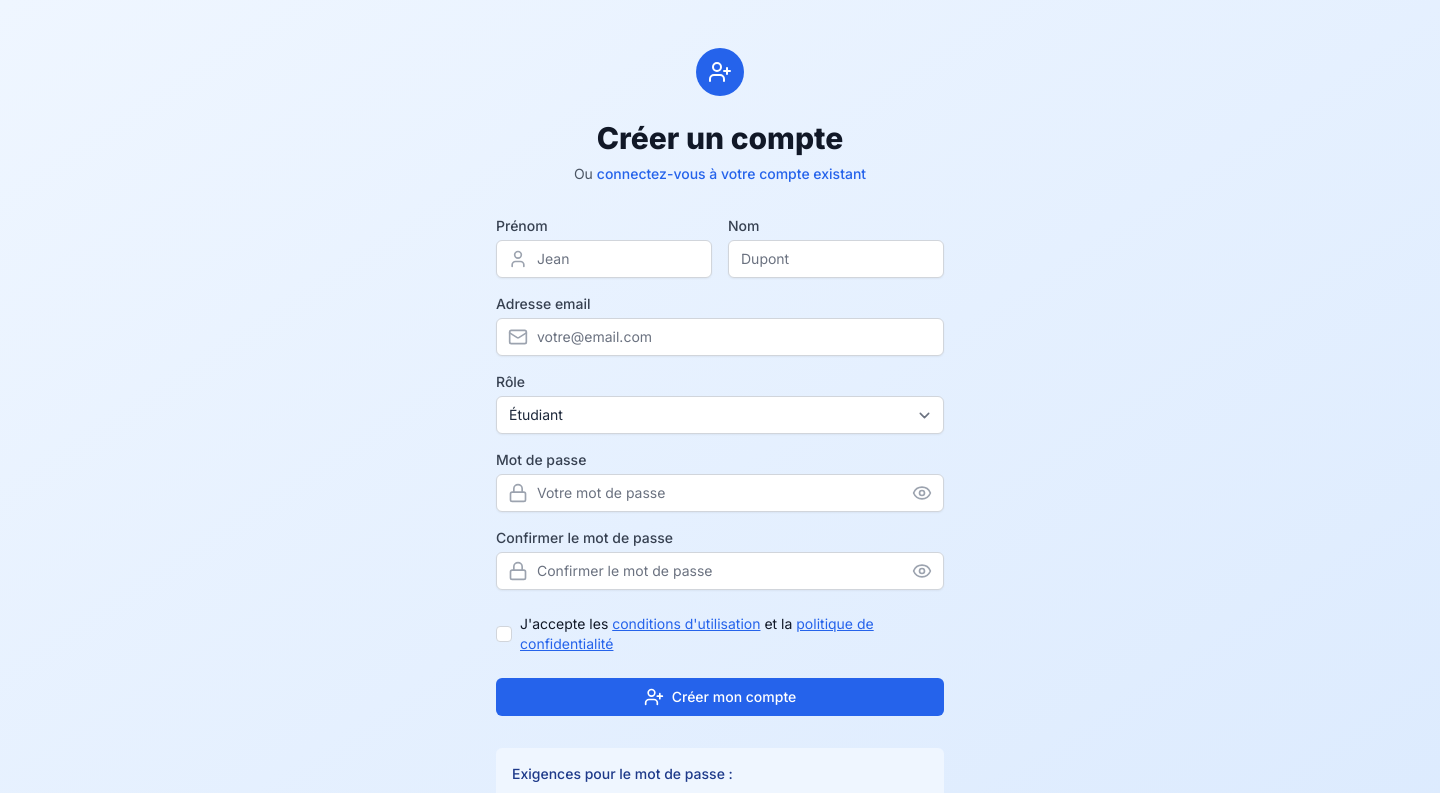
Scenario: RegisterForm › Form Validation › shows error when confirm password is empty
In the password field with placeholder "Votre mot de passe": (720, 493) x1=496 y1=474 x2=944 y2=512, type "Password123!"
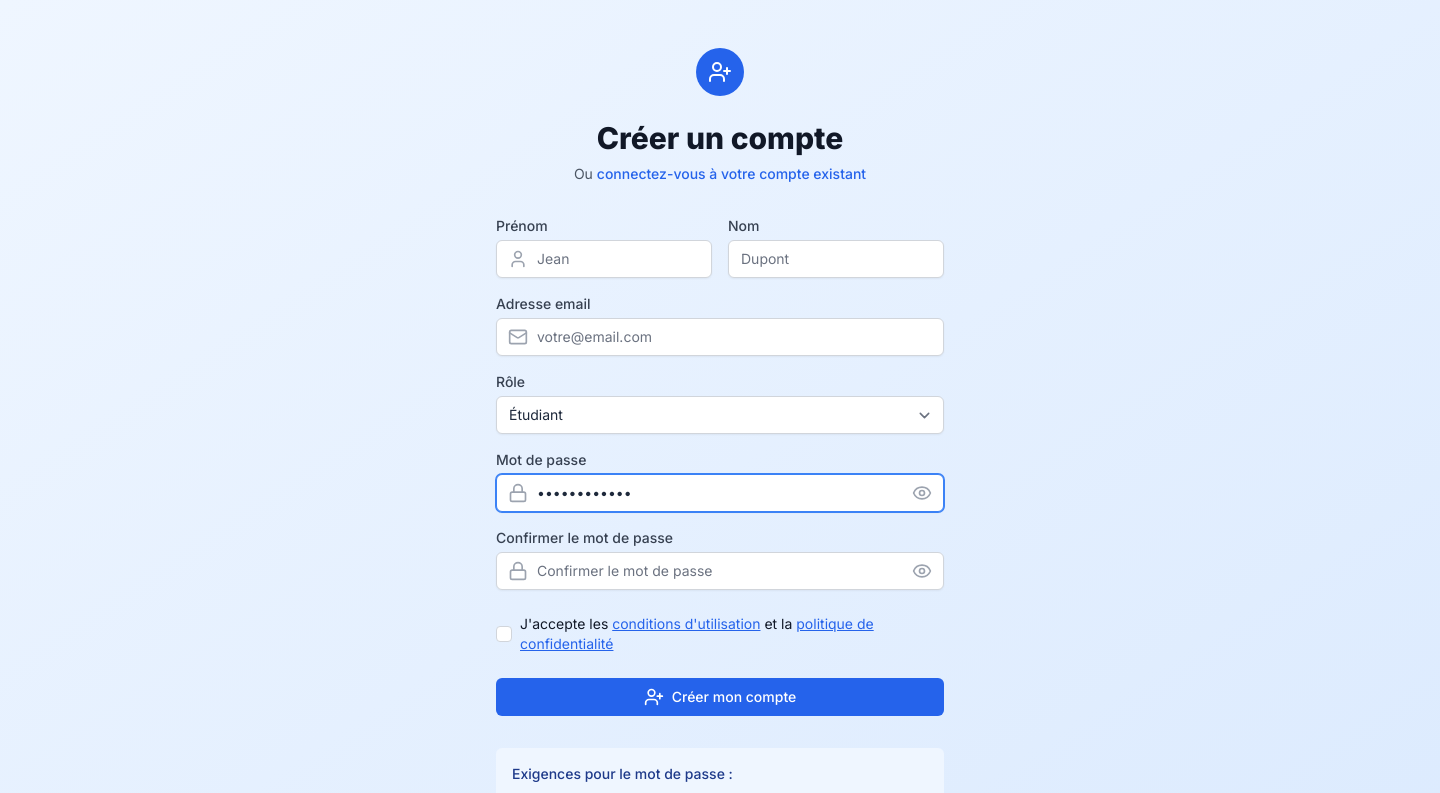
Click the button "Créer mon compte": (720, 697) x1=496 y1=678 x2=944 y2=716
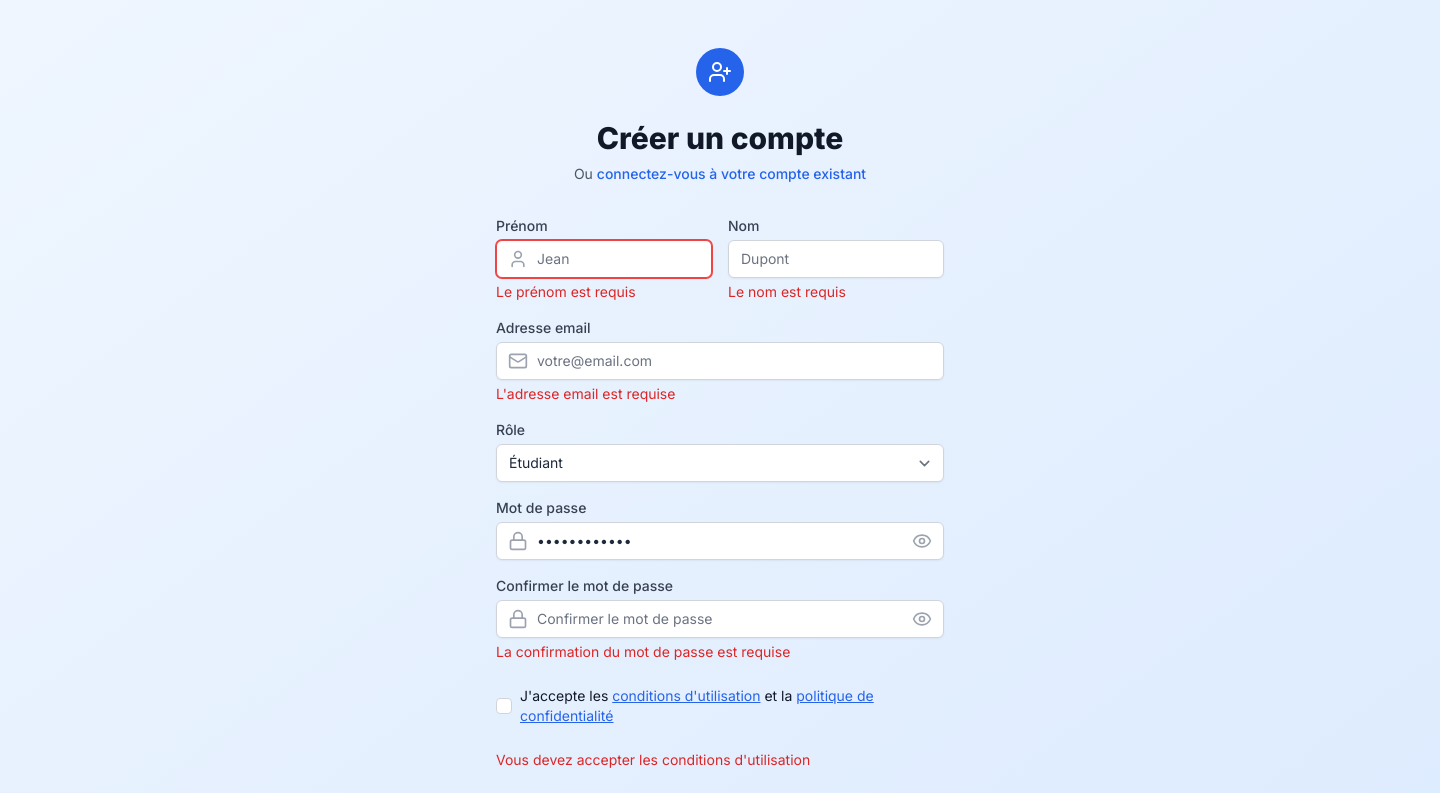
Now the text "La confirmation du mot de passe est requise" is shown, box x1=496 y1=643 x2=790 y2=660
